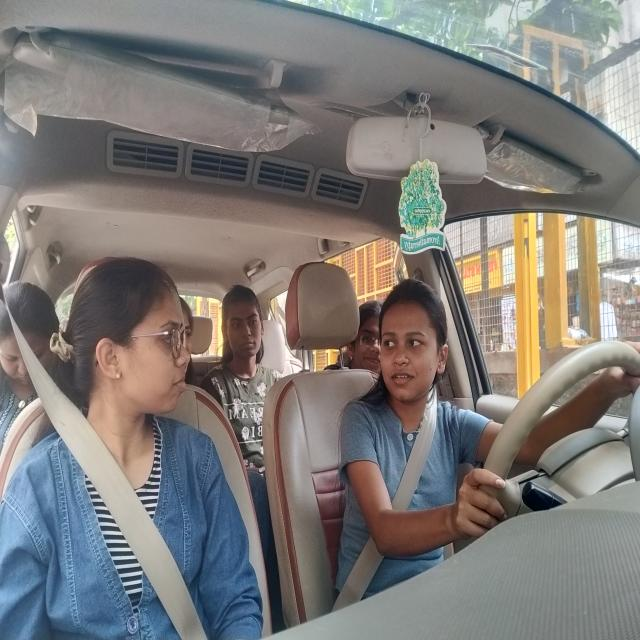LeftRight: (374, 281, 451, 404)
person: (85, 268, 196, 422), (3, 288, 58, 395), (216, 285, 268, 373), (357, 306, 387, 368)
